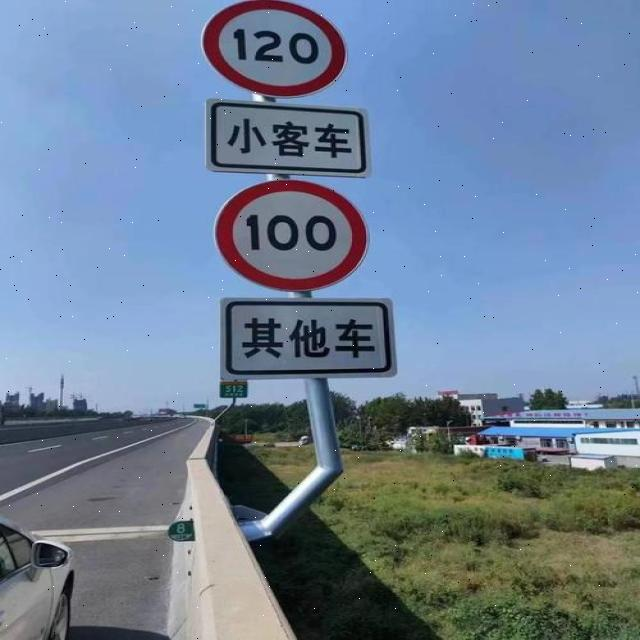speed limit 100: (212, 178, 368, 293)
speed limit 120: (204, 2, 347, 97)
